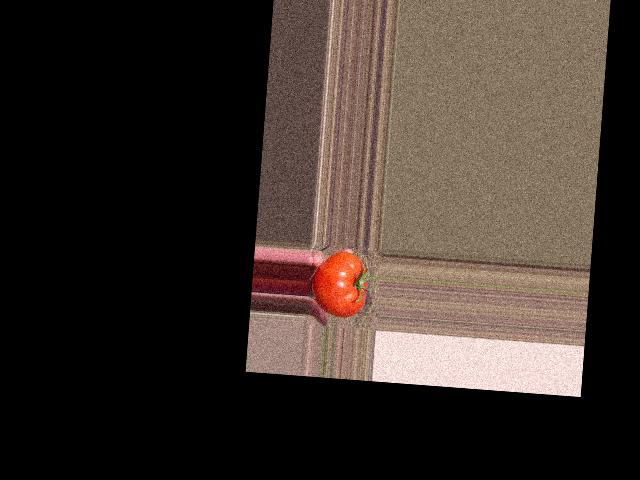tomato: (309, 249, 370, 318)
